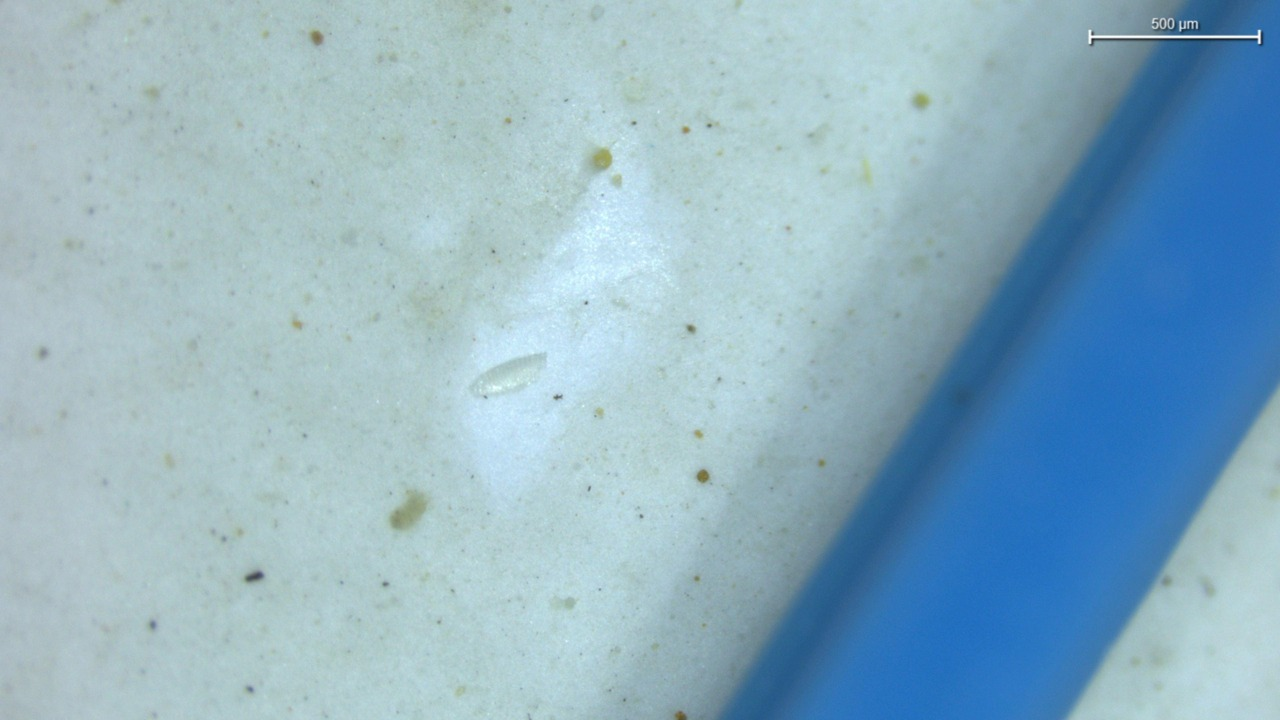microplastic_fragment: (471, 353, 546, 396)
